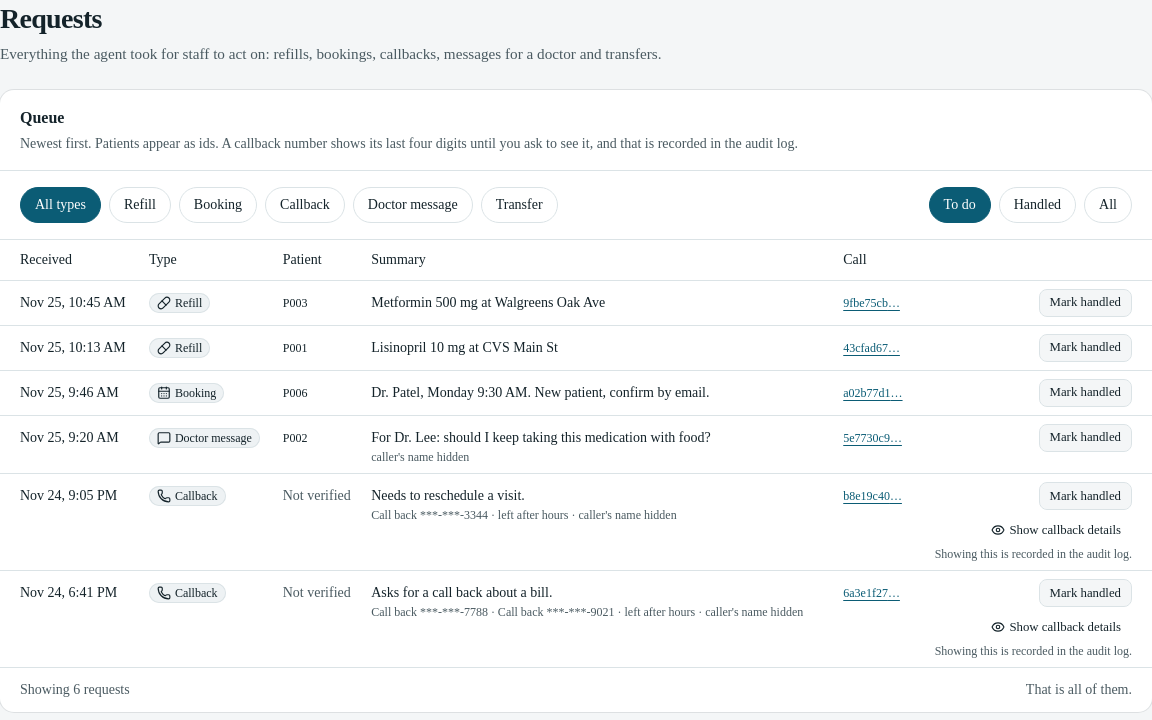
Test: Mark handled › shows a mark the request already had as the same result, not as an error
The width and height of the screenshot is (1152, 720).
Click the button "Mark handled" in the row of "Nov 25, 10:45 AM" at (1085,303), box [1039, 289, 1132, 317]
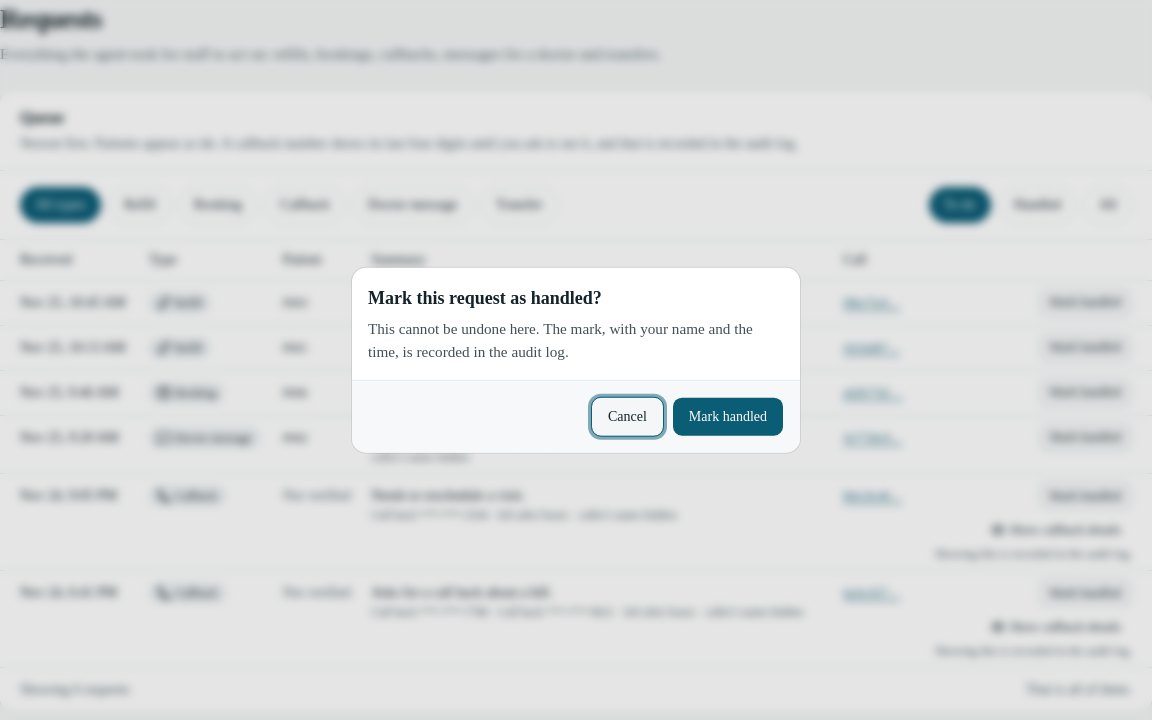
Click the button "Mark handled" at (728,416), box [672, 396, 784, 436]
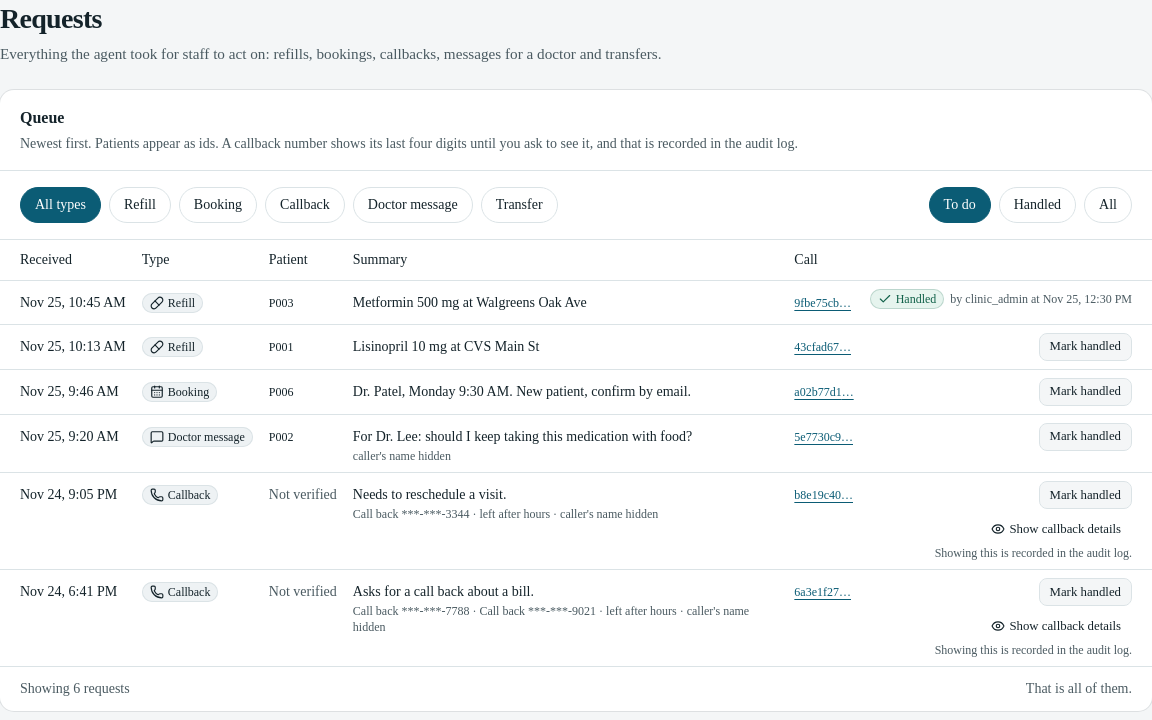
expect the text "Handled" is shown: met, box [870, 289, 944, 309]
expect the dialog is gone: met
